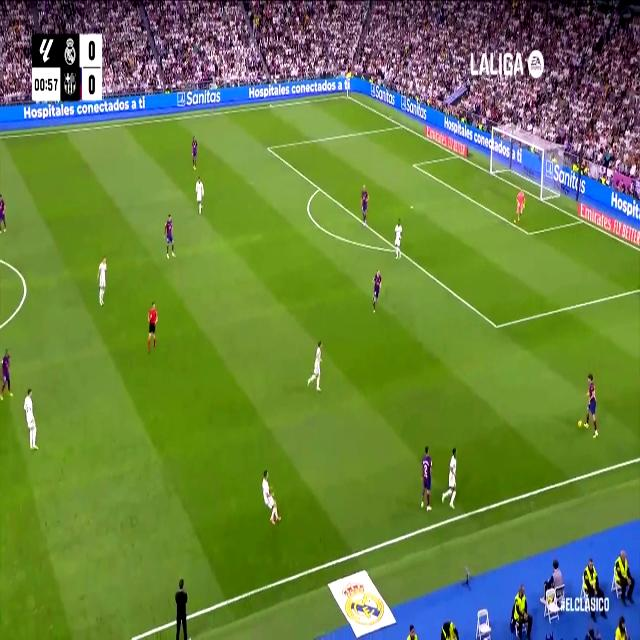bigarea_bottom_inner: (492, 315, 501, 337)
bigarea_top_inner: (266, 142, 270, 154)
bottom_arc_area_intersection: (394, 242, 401, 255)
corner: (345, 93, 349, 99)
smallarea_bottom_inner: (525, 226, 531, 240)
smallarea_top_inner: (412, 160, 417, 169)
top_arc_area_intersection: (317, 183, 321, 193)
